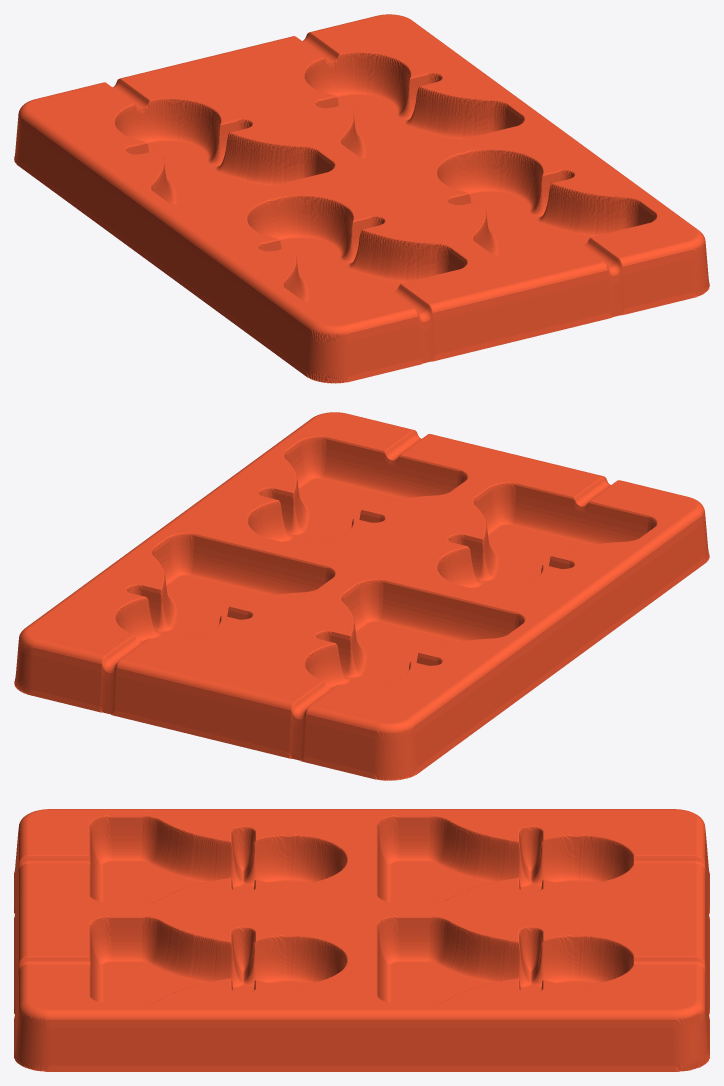
File: mold.glb
3 views of the same model, one above another, from view 1: azimuth 30°, elevation 25°; view 2: azimuth 150°, elevation 25°; view 3: azimuth 270°, elevation 25° (orthographic). The views are drawn at different scales.
Visible parts, largest first — view 1: geometry_0; view 2: geometry_0; view 3: geometry_0.
Part boxes in pixels (left/top/right/bottom): geometry_0: left=14, top=14, right=709, bottom=383; geometry_0: left=14, top=412, right=709, bottom=780; geometry_0: left=14, top=809, right=709, bottom=1071.
Bounding box in the file's own units: 0.1248 × 0.0155 × 0.1735.
